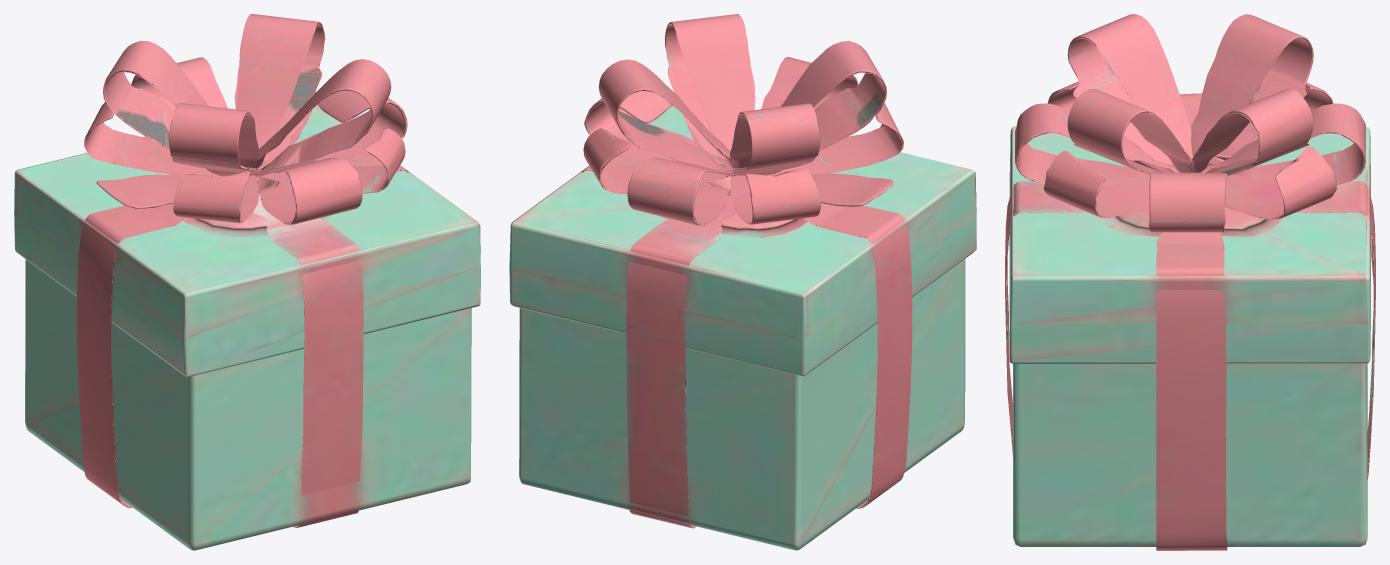
Rendered from p_gift.glb.
3 views of the same model, side by side, from view 1: azimuth 30°, elevation 25°; view 2: azimuth 150°, elevation 25°; view 3: azimuth 270°, elevation 25° (orthographic). The views are drawn at different scales.
Size of the model in its own units: 0.7534 by 0.9497 by 0.7534.
1 material, 1 textured.
